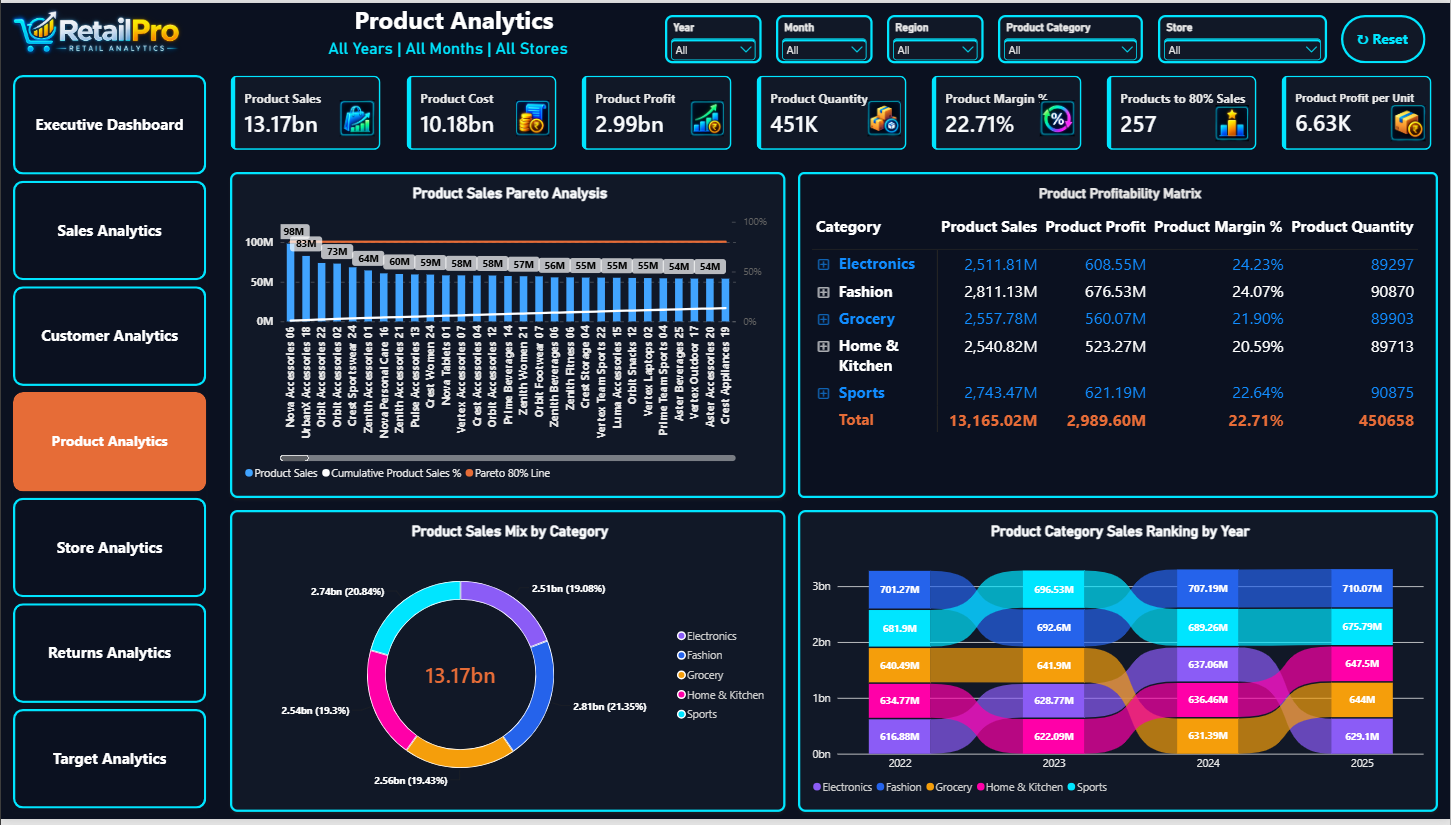

The page's visual inventory and layout, read from the dashboard file:
{"tool":"powerbi","page":{"name":"Product Analytics","canvas":[1920,1080],"ordinal":3},"visuals":[{"type":"cardVisual","fields":{"Data":["All_Measures.Product Cost"]},"box":[536,96,200,100],"z":0},{"type":"cardVisual","fields":{"Data":["All_Measures.Product Profit"]},"box":[768,96,200,100],"z":1000},{"type":"cardVisual","fields":{"Data":["All_Measures.Product Margin %"]},"box":[1232,96,200,100],"z":2000},{"type":"cardVisual","fields":{"Data":["All_Measures.Product Quantity"]},"box":[1000,96,200,100],"z":3000},{"type":"cardVisual","fields":{"Data":["All_Measures.Product Profit per Unit"]},"box":[1696,96,200,100],"z":4000},{"type":"lineClusteredColumnComboChart","title":"Product Sales Pareto Analysis","fields":{"Category":["DimProduct.ProductName"],"Y":["All_Measures.Product Sales"],"Y2":["All_Measures.Cumulative Product Sales %","All_Measures.Pareto 80% Line"]},"box":[304,224,736,432],"z":5000},{"type":"pivotTable","title":"Product Profitability Matrix","fields":{"Rows":["DimProduct.Category","DimProduct.Subcategory","DimProduct.ProductName"],"Values":["All_Measures.Product Sales","All_Measures.Product Profit","All_Measures.Product Margin %","All_Measures.Product Quantity"]},"box":[1056,224,848,432],"z":6000},{"type":"donutChart","title":"Product Sales Mix by Category","fields":{"Category":["DimProduct.Category"],"Y":["All_Measures.Product Sales"]},"box":[304,672,736,400],"z":7000},{"type":"ribbonChart","title":"Product Category Sales Ranking by Year","fields":{"Category":["DimDate.Year"],"Series":["DimProduct.Category"],"Y":["All_Measures.Product Sales"]},"box":[1056,672,848,400],"z":8000},{"type":"slicer","fields":{"Values":["DimDate.Year"]},"box":[880,16,128,64],"z":9000},{"type":"slicer","fields":{"Values":["DimDate.MonthName"]},"box":[1027.2,16,128,64],"z":10000},{"type":"slicer","fields":{"Values":["DimStore.Region"]},"box":[1174.4,16,128,64],"z":11000},{"type":"slicer","fields":{"Values":["DimStore.StoreName"]},"box":[1532.8,16,224,64],"z":12000},{"type":"slicer","fields":{"Values":["DimProduct.Category"]},"box":[1321.6,16,192,64],"z":13000},{"type":"image","box":[0,0,256,80],"z":14000},{"type":"textbox","box":[368,48,448,32],"z":15000},{"type":"textbox","box":[432,0,336,48],"z":16000},{"type":"pageNavigator","box":[16,96,256,976],"z":17000},{"type":"cardVisual","fields":{"Data":["All_Measures.Product Sales"]},"box":[304,96,200,100],"z":18000},{"type":"cardVisual","fields":{"Data":["All_Measures.Products to 80% Sales"]},"box":[1464,96,200,100],"z":19000},{"type":"actionButton","box":[1776,16,112,64],"z":20000},{"type":"image","box":[432,128,80,48],"z":21000},{"type":"image","box":[352,128,704,48],"z":22000},{"type":"image","box":[896,128,80,48],"z":23000},{"type":"image","box":[1130,128,80,48],"z":24000},{"type":"image","box":[1360,128,80,48],"z":25000},{"type":"image","box":[1592,135,80,48],"z":26000},{"type":"image","box":[1824,135,80,48],"z":27000}]}

Visuals, with their boxes in screenshot pixels (x1, y1, x2, y2), scaled from the page's 1920x1080 canvas onto the 1453x825 screenshot:
cardVisual - All_Measures.Product Cost: Rect(406, 73, 557, 150)
cardVisual - All_Measures.Product Profit: Rect(581, 73, 733, 150)
cardVisual - All_Measures.Product Margin %: Rect(932, 73, 1084, 150)
cardVisual - All_Measures.Product Quantity: Rect(757, 73, 908, 150)
cardVisual - All_Measures.Product Profit per Unit: Rect(1283, 73, 1435, 150)
"Product Sales Pareto Analysis" lineClusteredColumnComboChart: Rect(230, 171, 787, 501)
"Product Profitability Matrix" pivotTable: Rect(799, 171, 1441, 501)
"Product Sales Mix by Category" donutChart: Rect(230, 513, 787, 819)
"Product Category Sales Ranking by Year" ribbonChart: Rect(799, 513, 1441, 819)
slicer - DimDate.Year: Rect(666, 12, 763, 61)
slicer - DimDate.MonthName: Rect(777, 12, 874, 61)
slicer - DimStore.Region: Rect(889, 12, 986, 61)
slicer - DimStore.StoreName: Rect(1160, 12, 1329, 61)
slicer - DimProduct.Category: Rect(1000, 12, 1145, 61)
image: Rect(0, 0, 194, 61)
textbox: Rect(278, 37, 618, 61)
textbox: Rect(327, 0, 581, 37)
pageNavigator: Rect(12, 73, 206, 819)
cardVisual - All_Measures.Product Sales: Rect(230, 73, 381, 150)
cardVisual - All_Measures.Products to 80% Sales: Rect(1108, 73, 1259, 150)
actionButton: Rect(1344, 12, 1429, 61)
image: Rect(327, 98, 387, 134)
image: Rect(266, 98, 799, 134)
image: Rect(678, 98, 739, 134)
image: Rect(855, 98, 916, 134)
image: Rect(1029, 98, 1090, 134)
image: Rect(1205, 103, 1265, 140)
image: Rect(1380, 103, 1441, 140)
